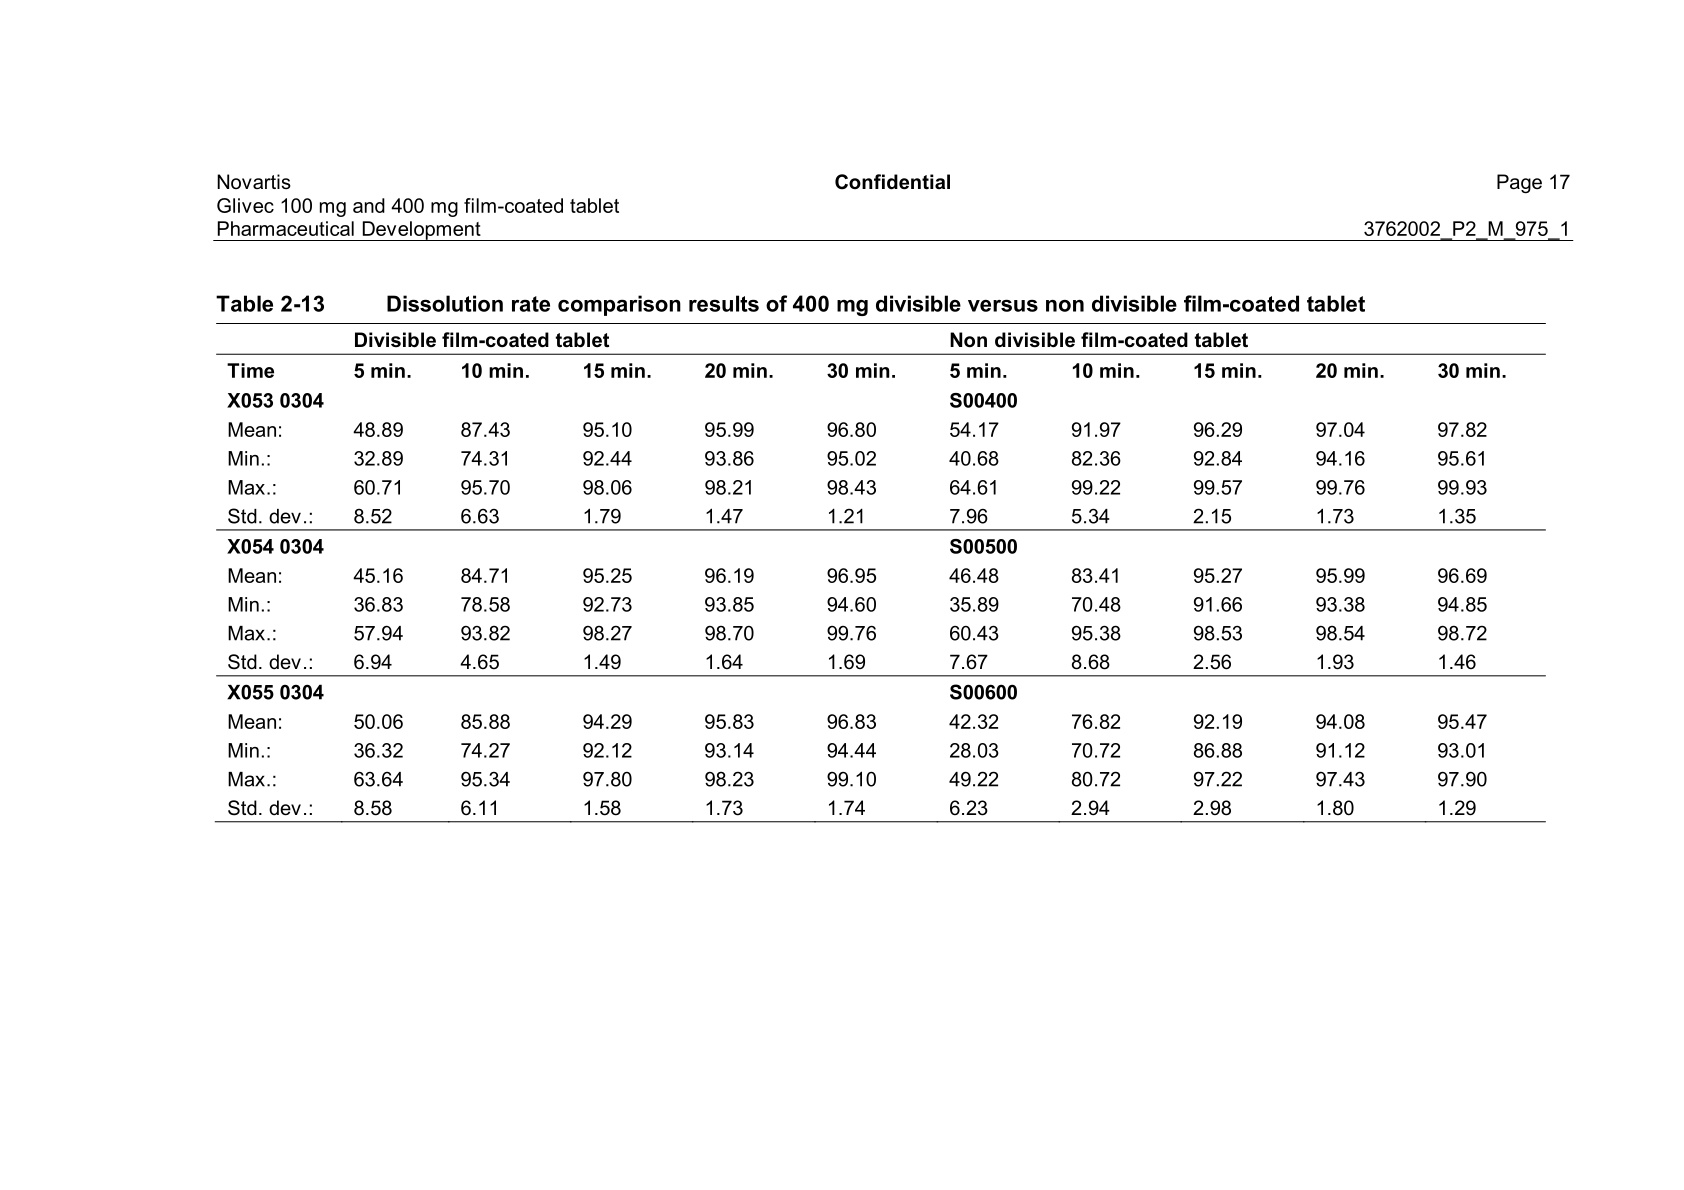partial_lined_merged_cells: (212, 321, 1548, 827)
